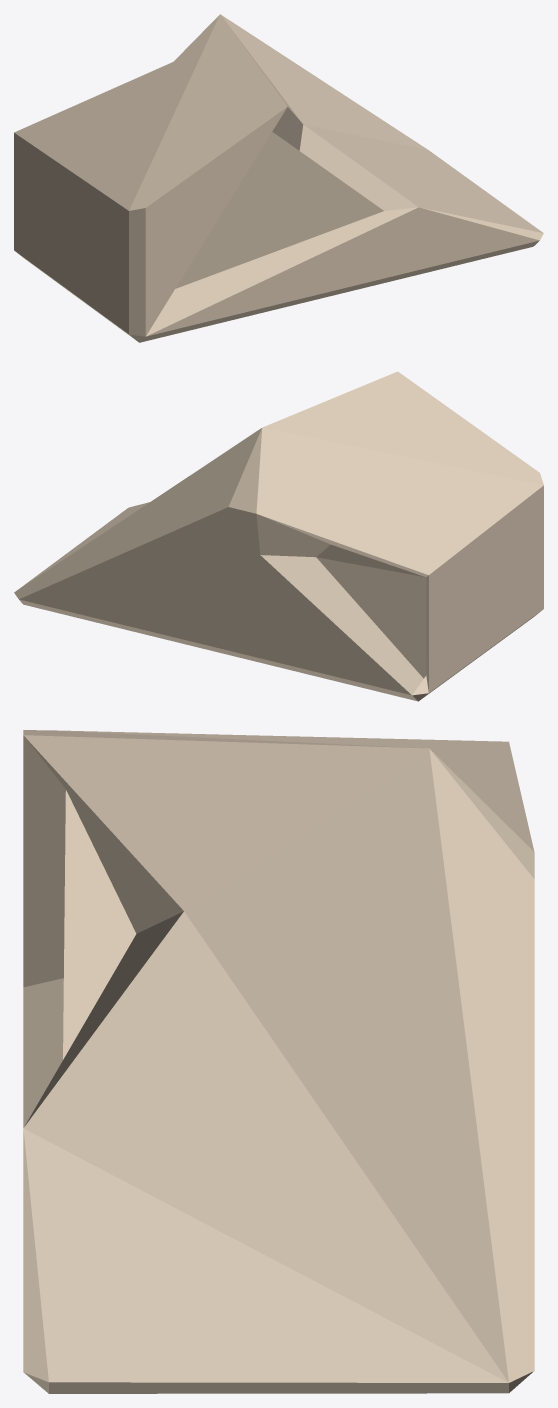
Rendered from Brick_004.fbx.
The picture shows the model from 3 angles, top to bottom: view 1: azimuth 30°, elevation 25°; view 2: azimuth 150°, elevation 25°; view 3: azimuth 270°, elevation 25°; orthographic projection. The views are drawn at different scales.
Visible parts, largest first — view 1: Brick_004; view 2: Brick_004; view 3: Brick_004.
Boxes of the visible parts, x1,y1,x2,y2 form: Brick_004: [14, 14, 543, 342]; Brick_004: [14, 371, 543, 701]; Brick_004: [23, 730, 534, 1393].
Size of the model in its own units: 0.75 by 0.3734 by 0.4.
